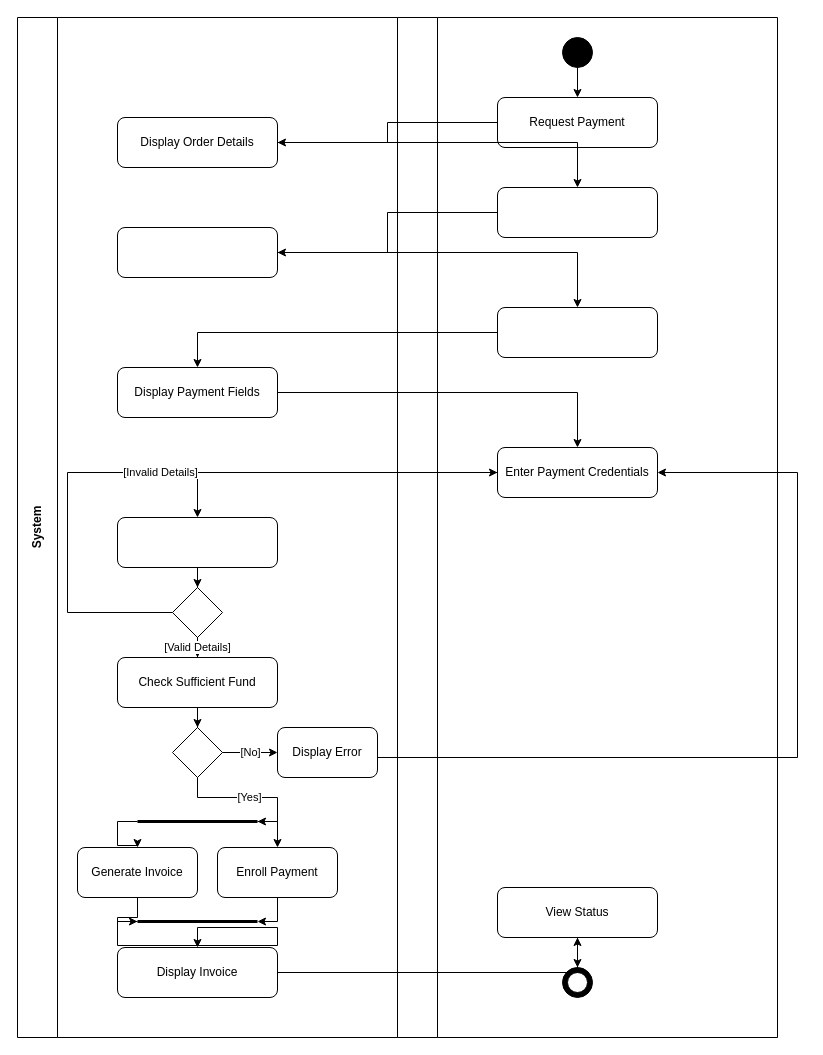
Image size: 823x1055. Some labels were removed from this diagram. The shapes that lost their labels are listed below. From the top down, each one's box as (x1, y1, x2, y2) in pixels, then its label:
(496, 186, 658, 238): Request Payment Methods
(116, 226, 278, 278): Display Payment Methods
(496, 306, 658, 358): Select Payment Methods
(116, 516, 278, 568): Verify Payment Credentials
(396, 16, 778, 1038): Customer
